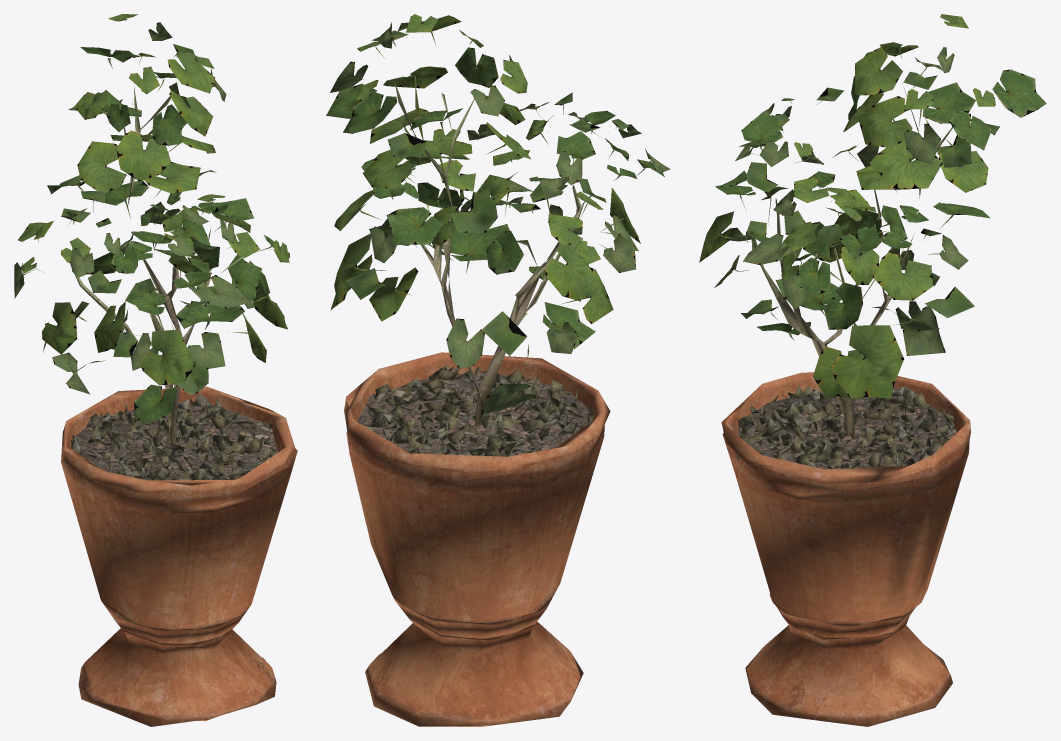
Rendered from plantBush_hq.glb.
3 renders of one model, left to right at view 1: azimuth 30°, elevation 25°; view 2: azimuth 150°, elevation 25°; view 3: azimuth 270°, elevation 25°, orthographic. The views are drawn at different scales.
Parts seen in each view (by area): view 1: potted_plant_01_stem, potted_plant_01_leaves; view 2: potted_plant_01_stem, potted_plant_01_leaves; view 3: potted_plant_01_stem, potted_plant_01_leaves.
Boxes of the visible parts, x1,y1,x2,y2 form: potted_plant_01_stem: (61,86,297,726); potted_plant_01_leaves: (14,14,289,424); potted_plant_01_stem: (344,82,610,726); potted_plant_01_leaves: (326,14,670,414); potted_plant_01_stem: (721,88,970,726); potted_plant_01_leaves: (699,14,1046,399).
Bounding box in the file's own units: 0.5858 × 1.33 × 0.6336.
Materials: 2 (2 with a texture image).
